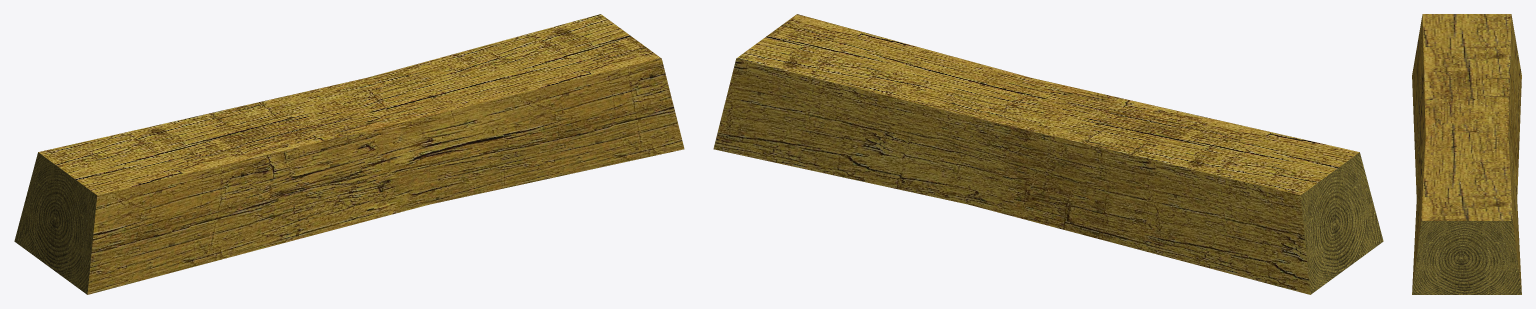
Rendered from CRAFT_DREWNO_SWIERKU.glb.
3 views of the same model, side by side, from view 1: azimuth 30°, elevation 25°; view 2: azimuth 150°, elevation 25°; view 3: azimuth 270°, elevation 25° (orthographic). The views are drawn at different scales.
Visible parts, largest first — view 1: CRAFT_DREWNO_SWIERKU; view 2: CRAFT_DREWNO_SWIERKU; view 3: CRAFT_DREWNO_SWIERKU.
Part boxes in pixels (left/top/right/bottom): CRAFT_DREWNO_SWIERKU: left=14, top=14, right=684, bottom=294; CRAFT_DREWNO_SWIERKU: left=713, top=14, right=1383, bottom=294; CRAFT_DREWNO_SWIERKU: left=1412, top=14, right=1521, bottom=294.
Size of the model in its own units: 0.5789 by 0.0837 by 0.1227.
2 materials, 2 textured.
